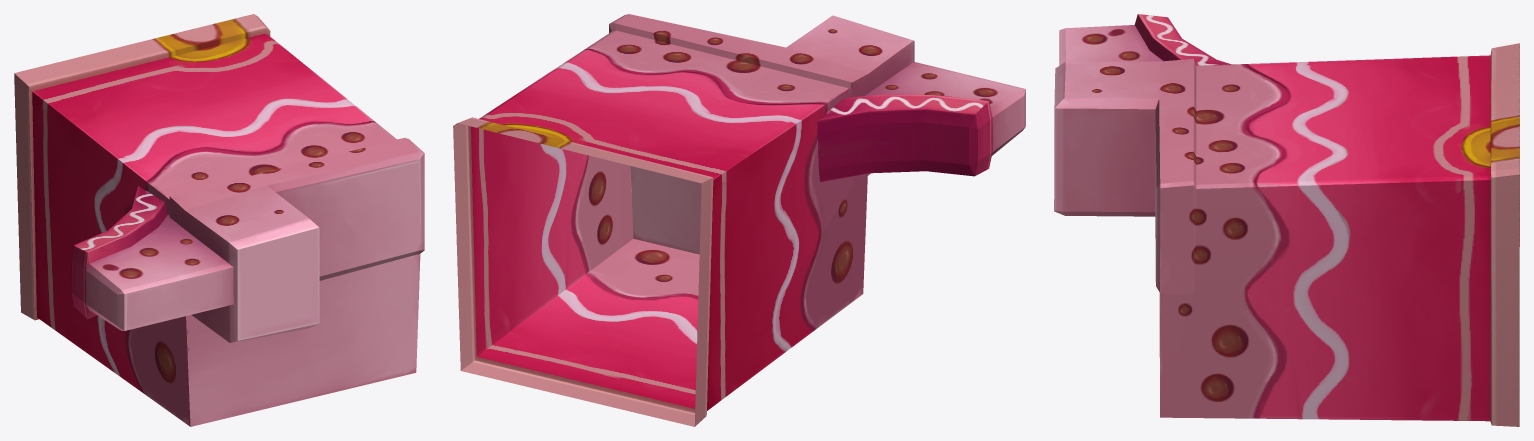
Rendered from common_obj_168.fbx.
3 renders of one model, left to right at view 1: azimuth 30°, elevation 25°; view 2: azimuth 150°, elevation 25°; view 3: azimuth 270°, elevation 25°, orthographic. The views are drawn at different scales.
Visible parts, largest first — view 1: Wall_Right_02; view 2: Wall_Right_02; view 3: Wall_Right_02.
Part boxes in pixels (box(x1,y1,x2,y2)): Wall_Right_02: box(14, 14, 424, 426); Wall_Right_02: box(453, 14, 1025, 426); Wall_Right_02: box(1054, 14, 1519, 426).
Bounding box in the file's own units: 221 × 146 × 237.
